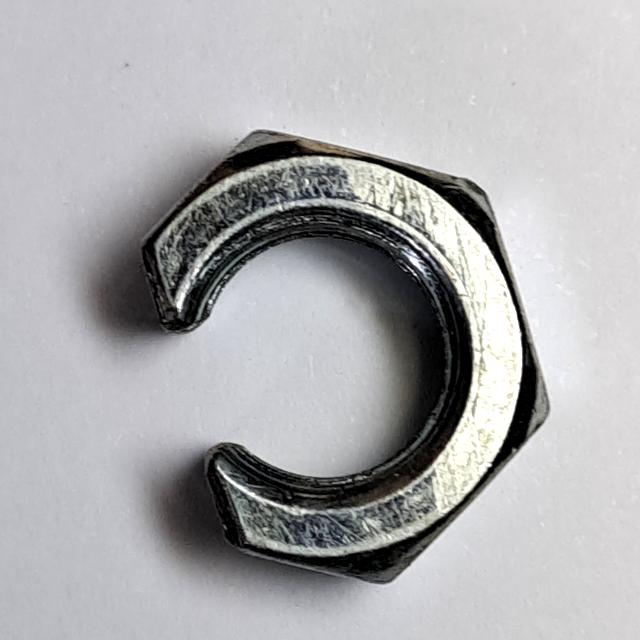Fracture: (128, 111, 564, 612)
